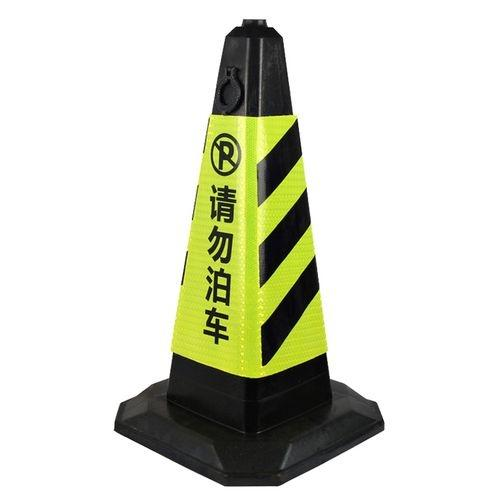cone_barrel: (139, 20, 364, 448)
